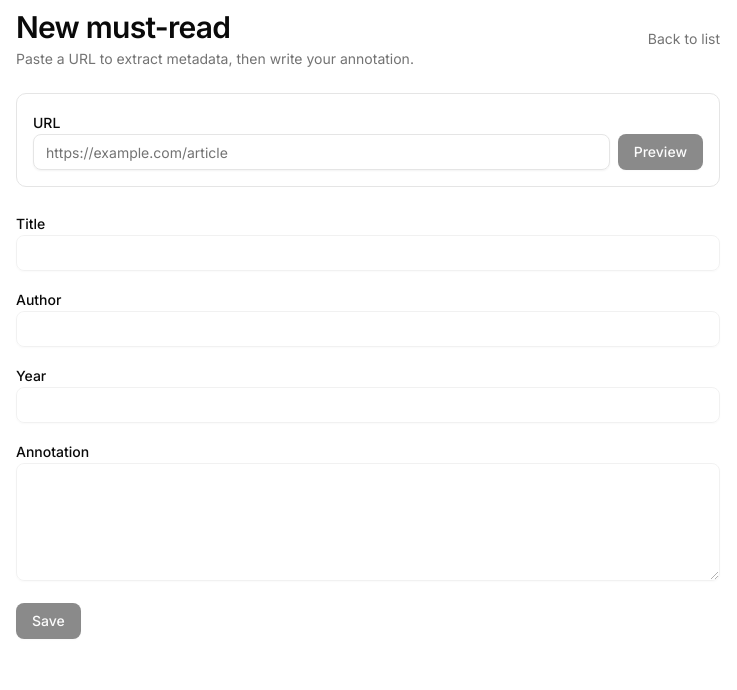
Test: AdminMustReadEditPage — create flow (REQ-029) › prefills only title when author/year are null (EDGE-003)
The image size is (737, 690).
Type "https://x.com" into the field labelled "URL" at (321, 152), box [33, 134, 610, 170]
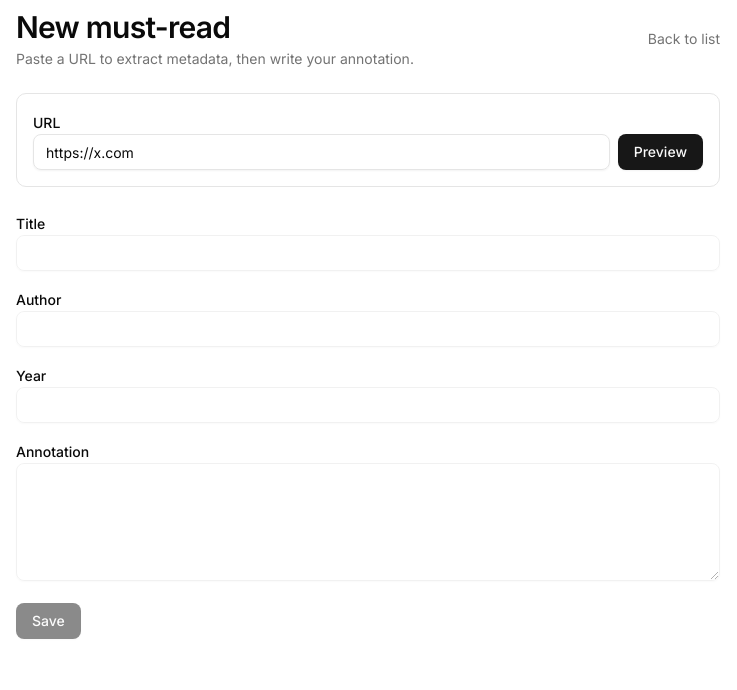
Click the button "Preview" at (660, 152), box [618, 134, 703, 170]
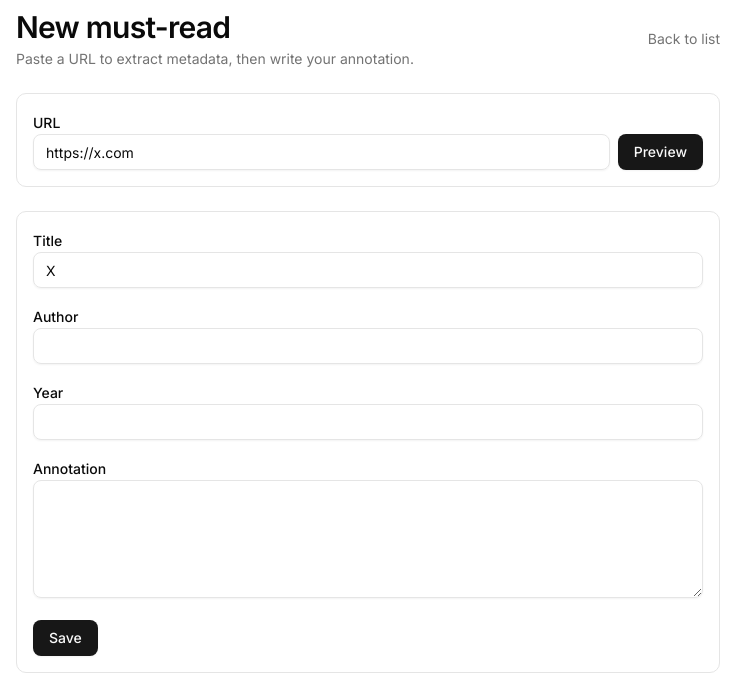
Expected: the field labelled "Author" is empty, [33, 328, 703, 364]
Now the field labelled "Title" holds "X", box [33, 252, 703, 288]
